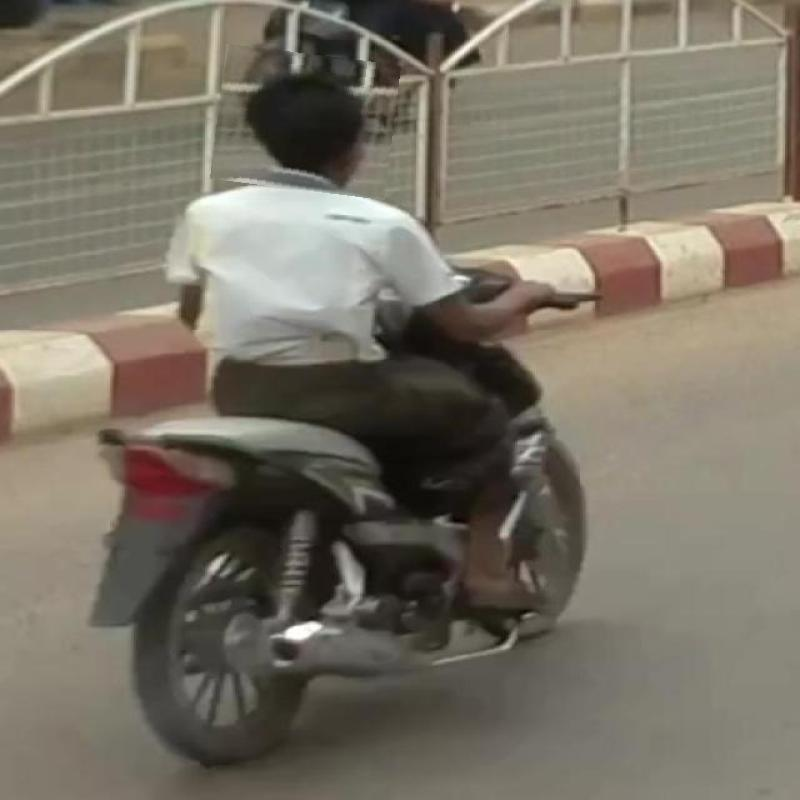nohelmet: (214, 49, 397, 195)
